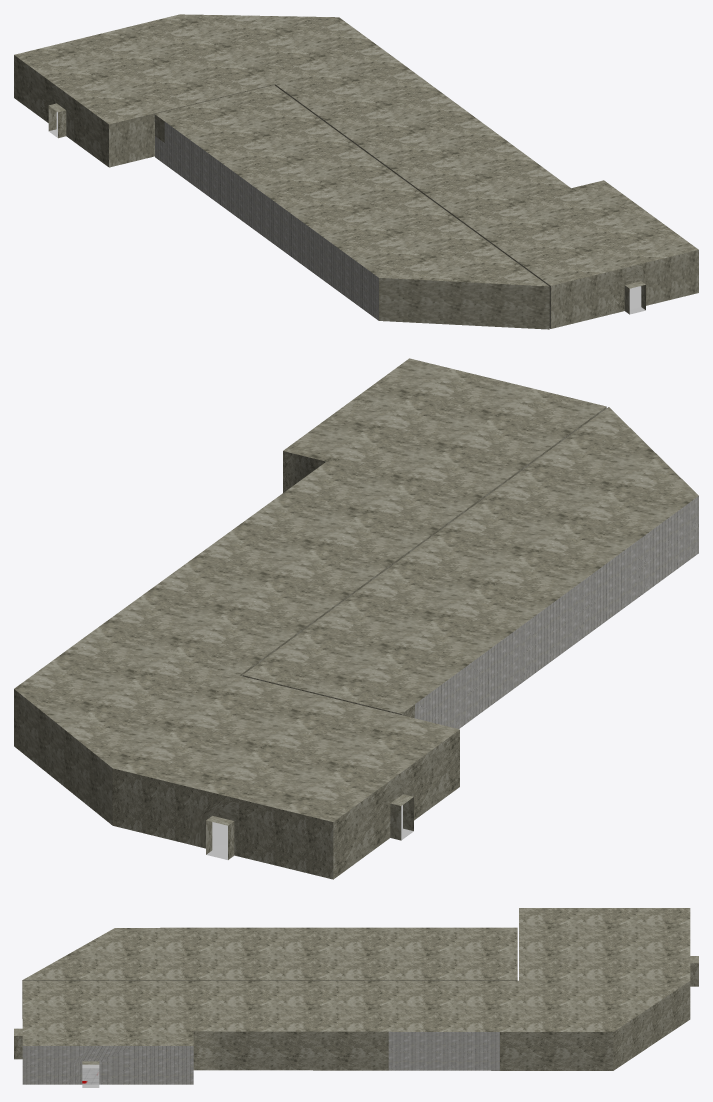
The model's file is Medical_Lab.fbx.
The picture shows the model from 3 angles, top to bottom: view 1: azimuth 30°, elevation 25°; view 2: azimuth 150°, elevation 25°; view 3: azimuth 270°, elevation 25°; orthographic projection. The views are drawn at different scales.
Parts seen in each view (by area): view 1: Room_Medical_Lab:Medical_Lab; view 2: Room_Medical_Lab:Medical_Lab; view 3: Room_Medical_Lab:Medical_Lab.
Part boxes in pixels (<box>): Room_Medical_Lab:Medical_Lab: <box>14,14,698,329</box>; Room_Medical_Lab:Medical_Lab: <box>14,358,698,879</box>; Room_Medical_Lab:Medical_Lab: <box>14,908,698,1087</box>.
Size of the model in its own units: 40 by 5.01 by 79.97.
